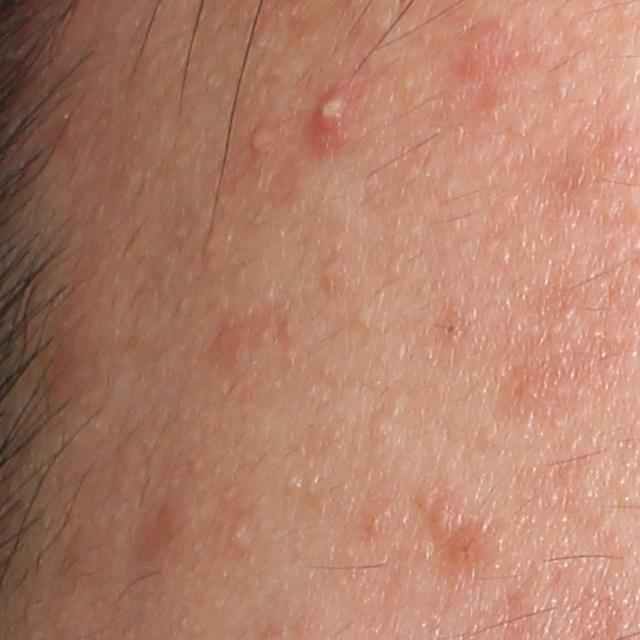comedo: (449, 22, 506, 74), (223, 516, 250, 548), (368, 418, 395, 441), (352, 310, 379, 328), (441, 322, 465, 340), (285, 474, 305, 494)
papule: (360, 506, 390, 535)
pustule: (312, 82, 347, 130)
